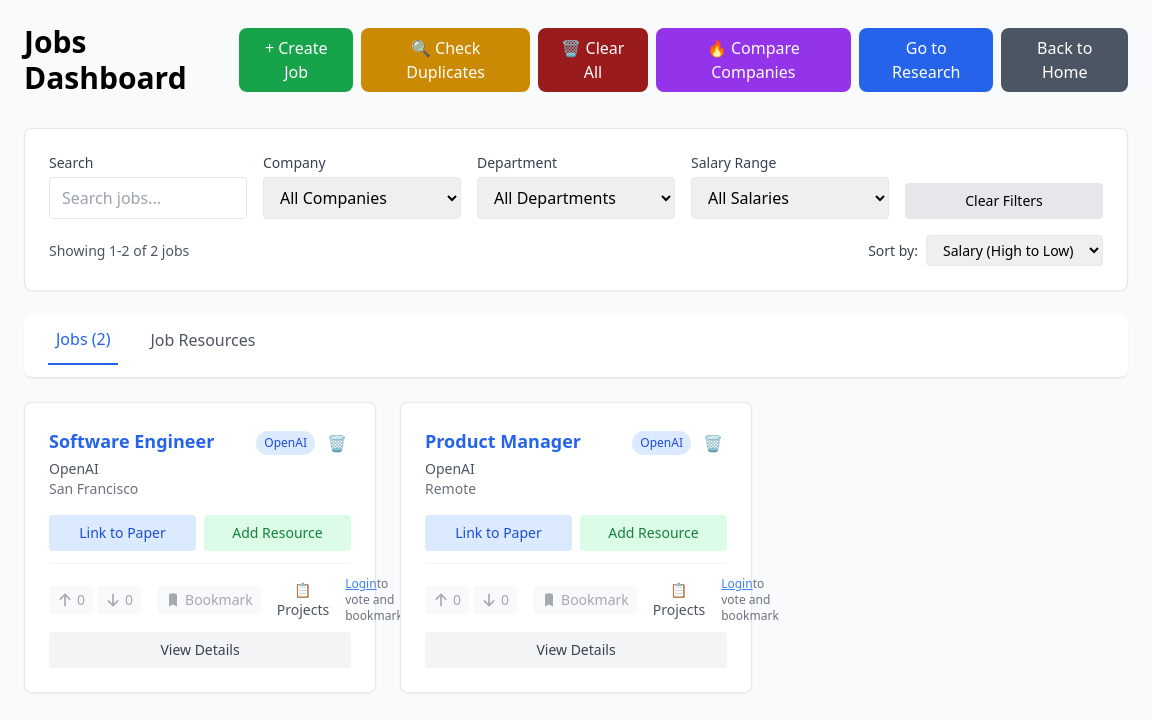
Test: Jobs Page › filters jobs by search query
Expected: the heading "Software Engineer" is shown, [49,429,214,453]
Expected: the heading "Product Manager" is shown, [425,429,581,453]
Note: Search for "engineer"
Type "engineer" into the field with placeholder "Search jobs...".
click(148, 198); type("engineer")  # box [49,177,247,219]
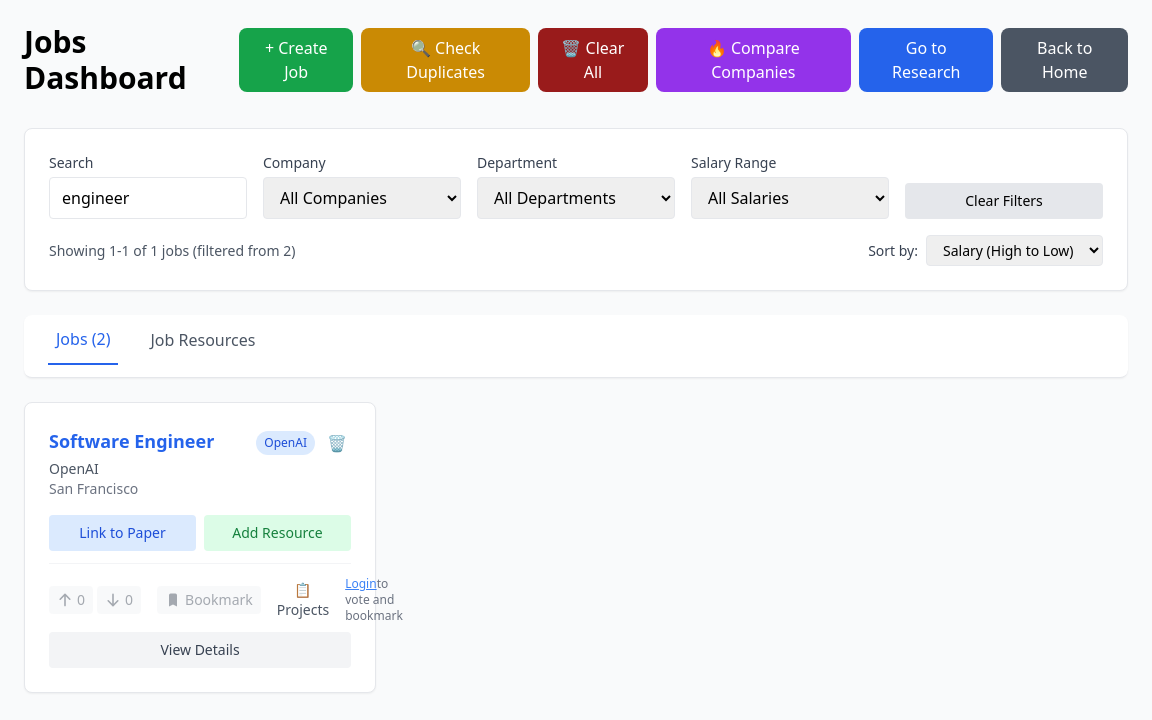
Expected: the heading "Software Engineer" is shown, [49,429,214,453]
Expected: the heading "Product Manager" is gone
